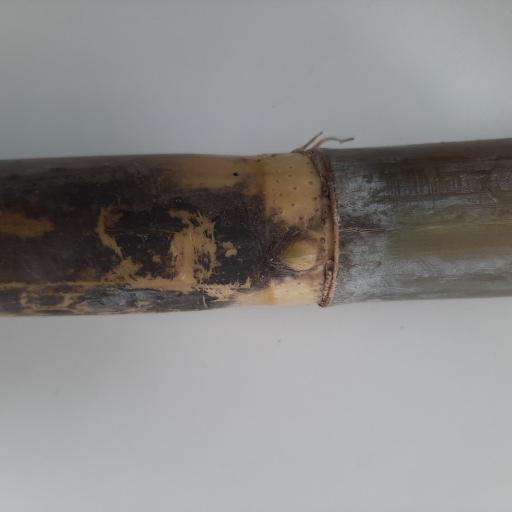Bud: (276, 237, 322, 273)
